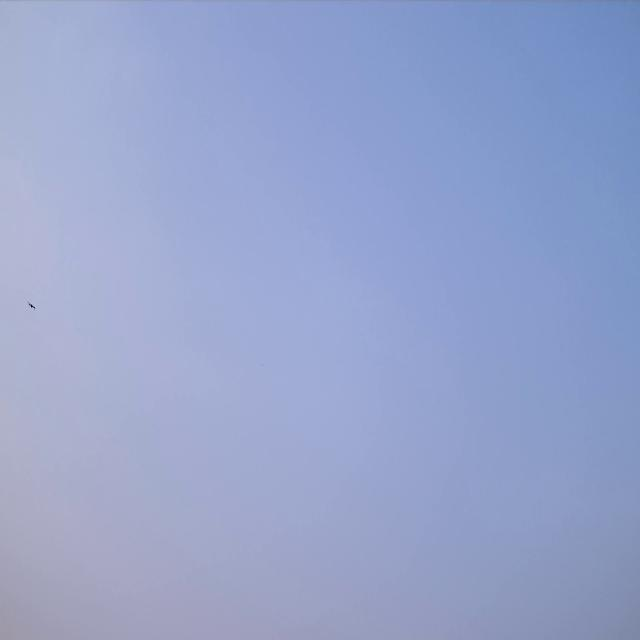UAV: (26, 300, 36, 311)
